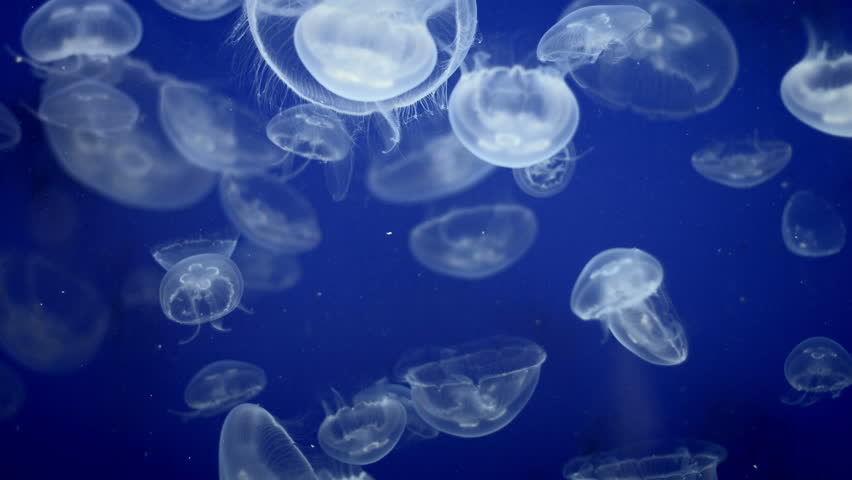jellyfish: (246, 1, 475, 117), (449, 35, 605, 176), (565, 243, 696, 374), (394, 352, 552, 442), (393, 198, 546, 277), (147, 239, 256, 333)
